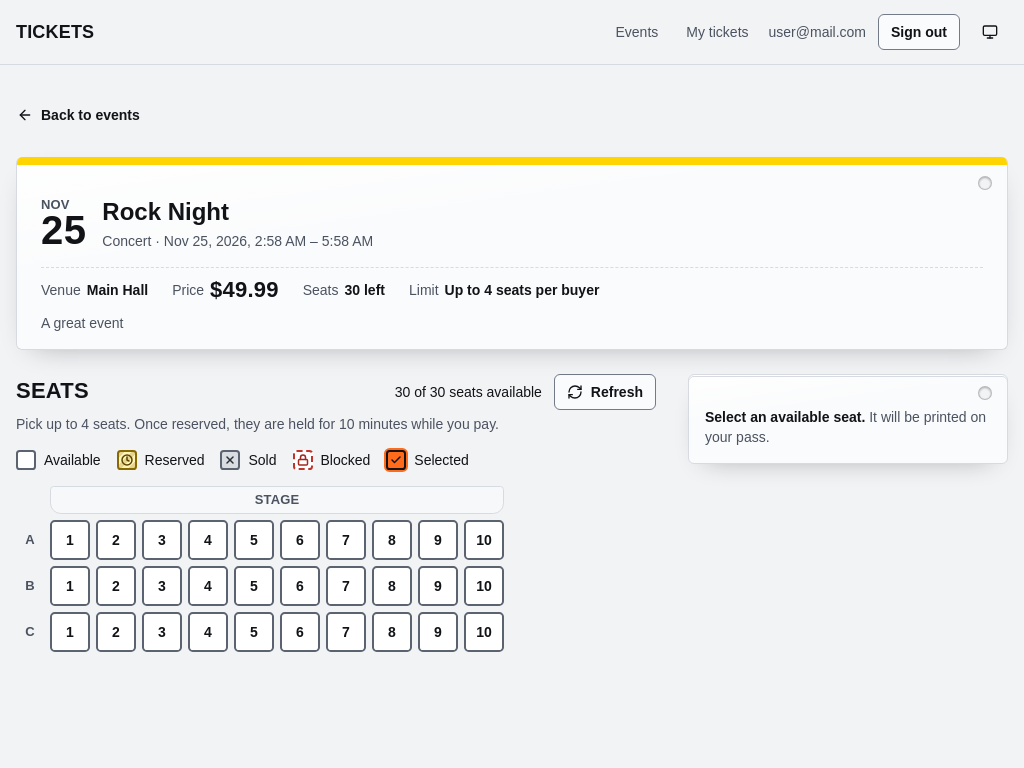
reserving seats › keeps the selection after a network failure so the user can retry
The width and height of the screenshot is (1024, 768).
Click the button named "Seat C7, Available": (346,632) [326,612,366,652]
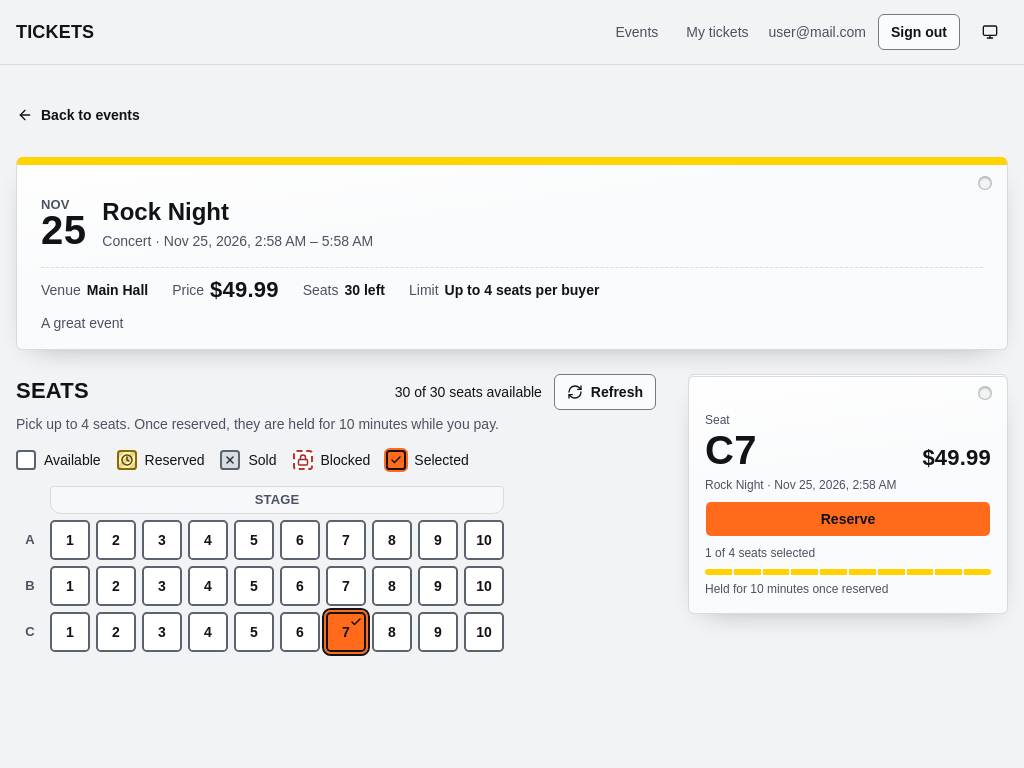
Click the 3rd button "8": (392,632) [372,612,412,652]
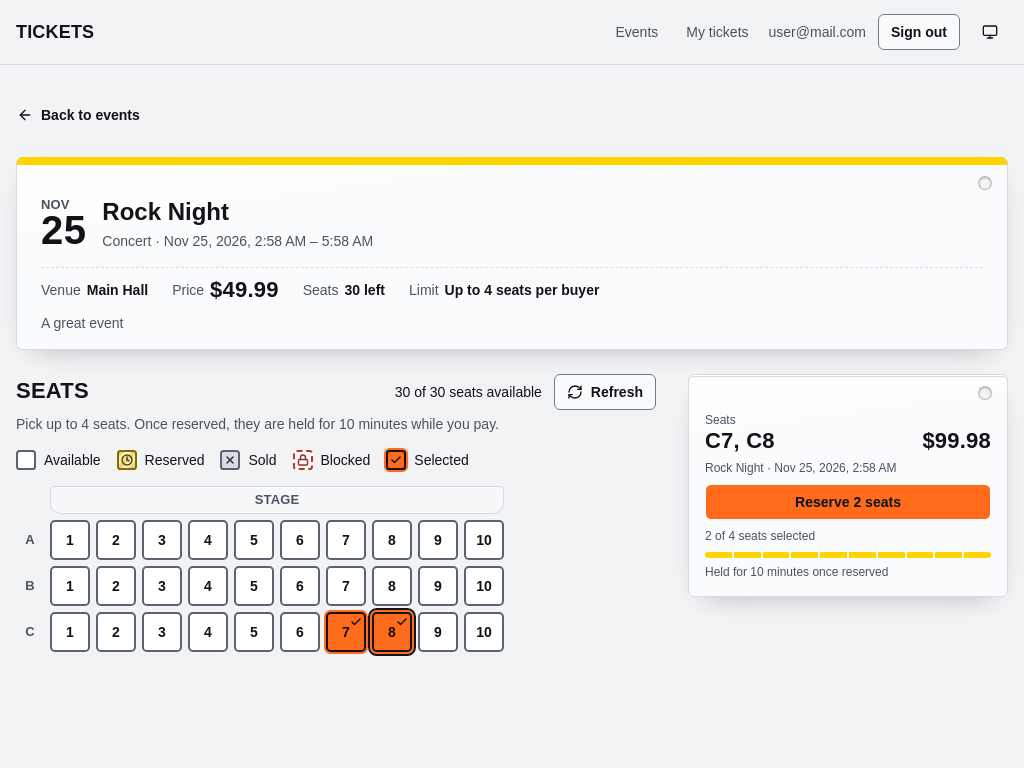
Click the button "Reserve 2 seats": (848,502) [705,484,991,520]
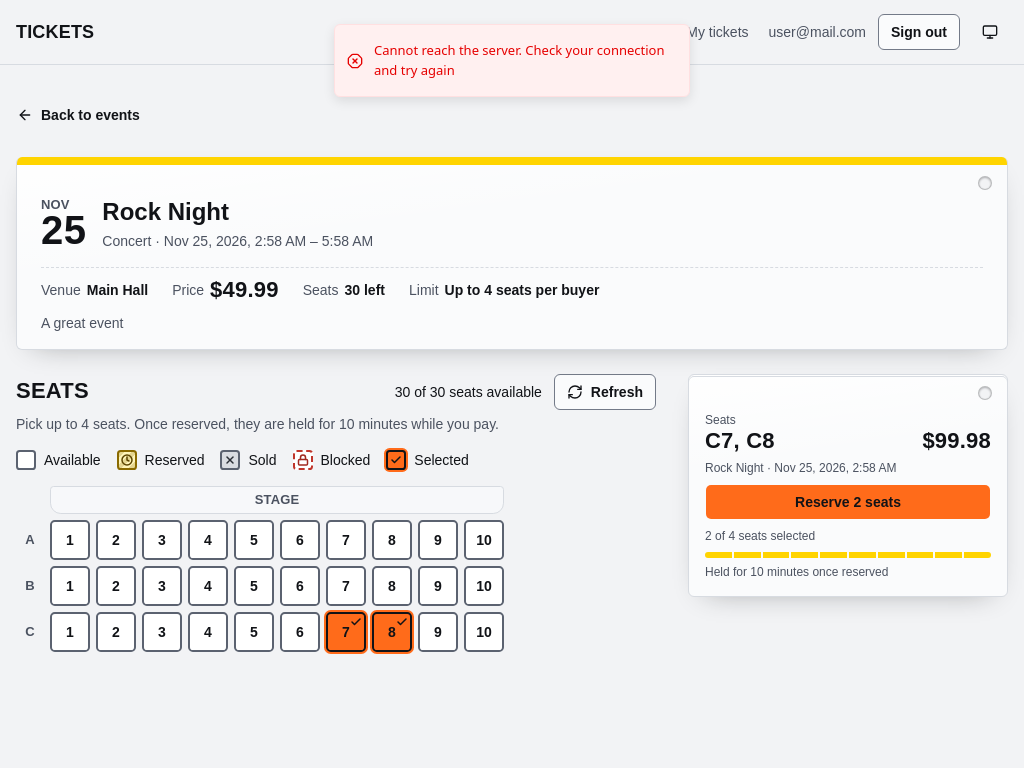
Expected: the button "Reserve 2 seats" is enabled, [705,484,991,520]
Expected: the text "Cannot reach the server. Check your connection and try again" is shown, [374,41,673,80]
